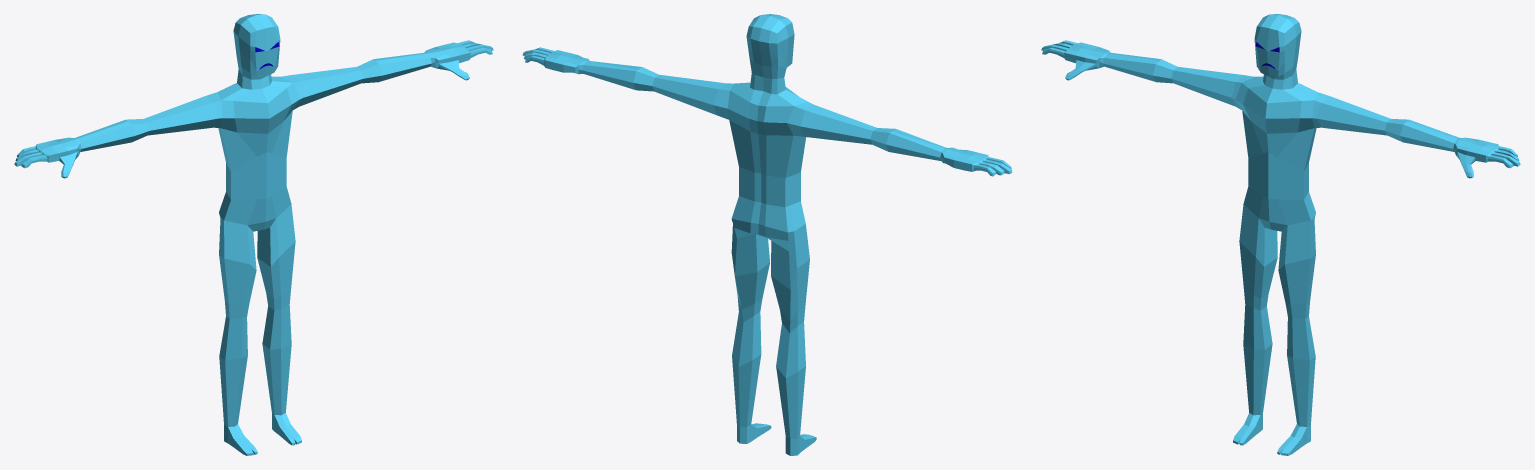
File: spirit_version_basemodel_05.fbx
3 renders of one model, left to right at view 1: azimuth 30°, elevation 25°; view 2: azimuth 150°, elevation 25°; view 3: azimuth 330°, elevation 25°, orthographic. The views are drawn at different scales.
Visible parts, largest first — view 1: Cube; view 2: Cube; view 3: Cube.
Boxes of the visible parts, x1,y1,x2,y2 form: Cube: (14,14,493,455); Cube: (522,14,1012,455); Cube: (1041,14,1520,455).
Bounding box in the file's own units: 2570 × 2169 × 301.
